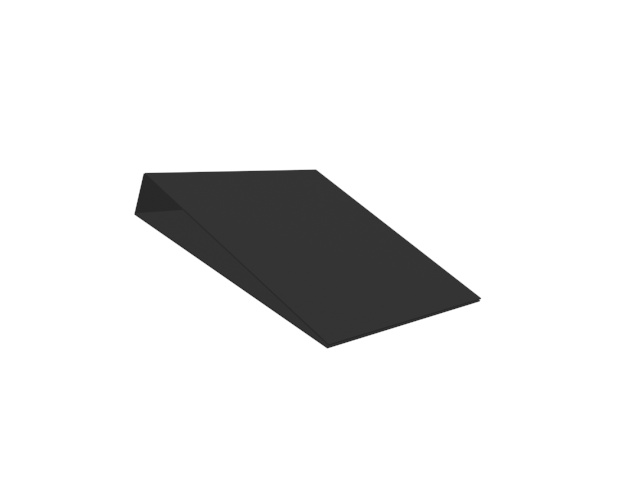ring_binder: (129, 169, 488, 352)
